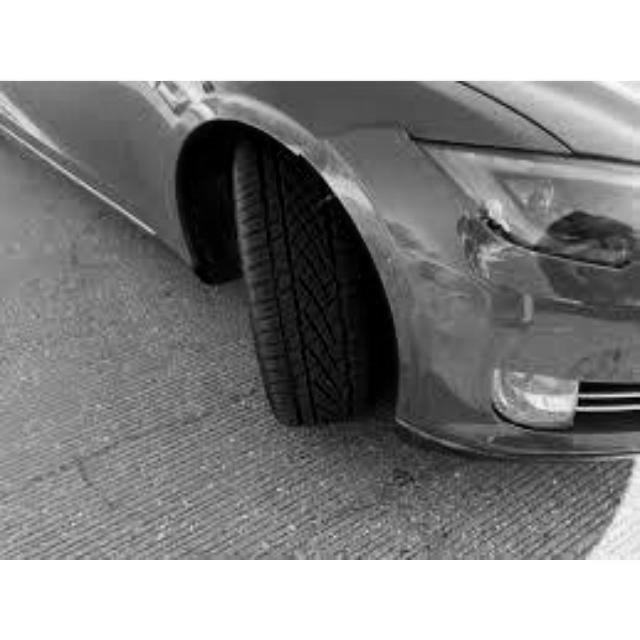front-bumper-dent: (361, 202, 637, 458)
